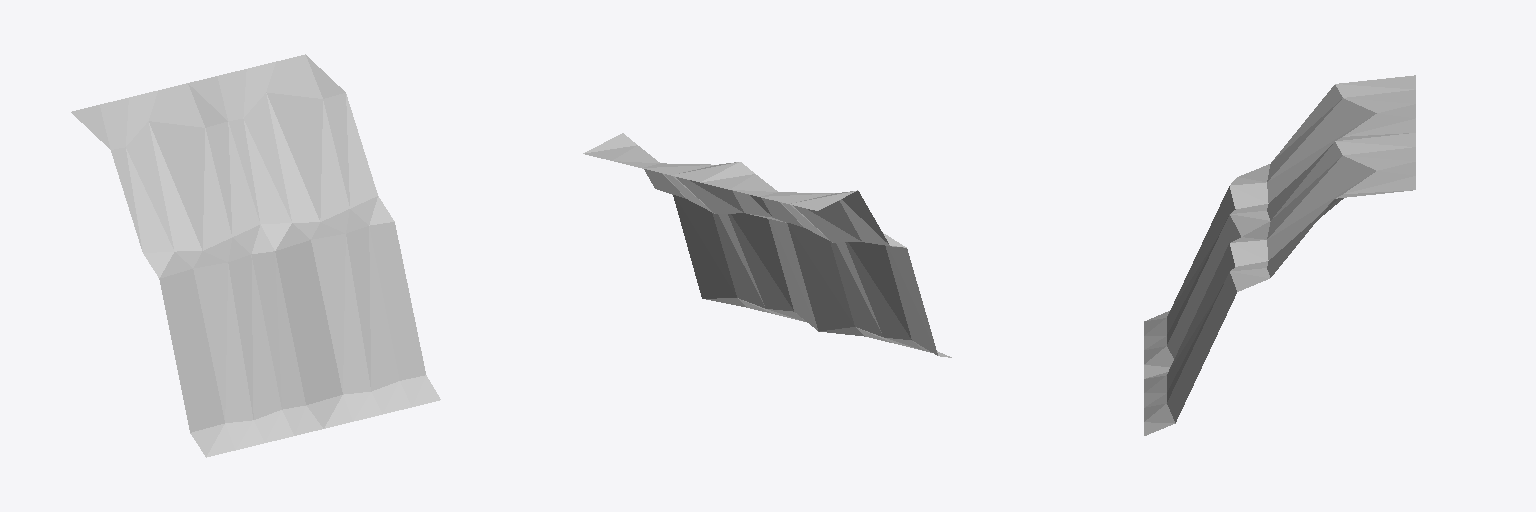
Rendered from Cliff_LowRes.obj.
3 views of the same model, side by side, from view 1: azimuth 30°, elevation 25°; view 2: azimuth 150°, elevation 25°; view 3: azimuth 270°, elevation 25° (orthographic).
Parts seen in each view (by area): view 1: Plane; view 2: Plane; view 3: Plane.
Part boxes in pixels (bbox=[...]): Plane: bbox=[71, 54, 440, 457]; Plane: bbox=[583, 133, 951, 357]; Plane: bbox=[1144, 75, 1415, 435].
Size of the model in its own units: 2.01 by 2 by 2.